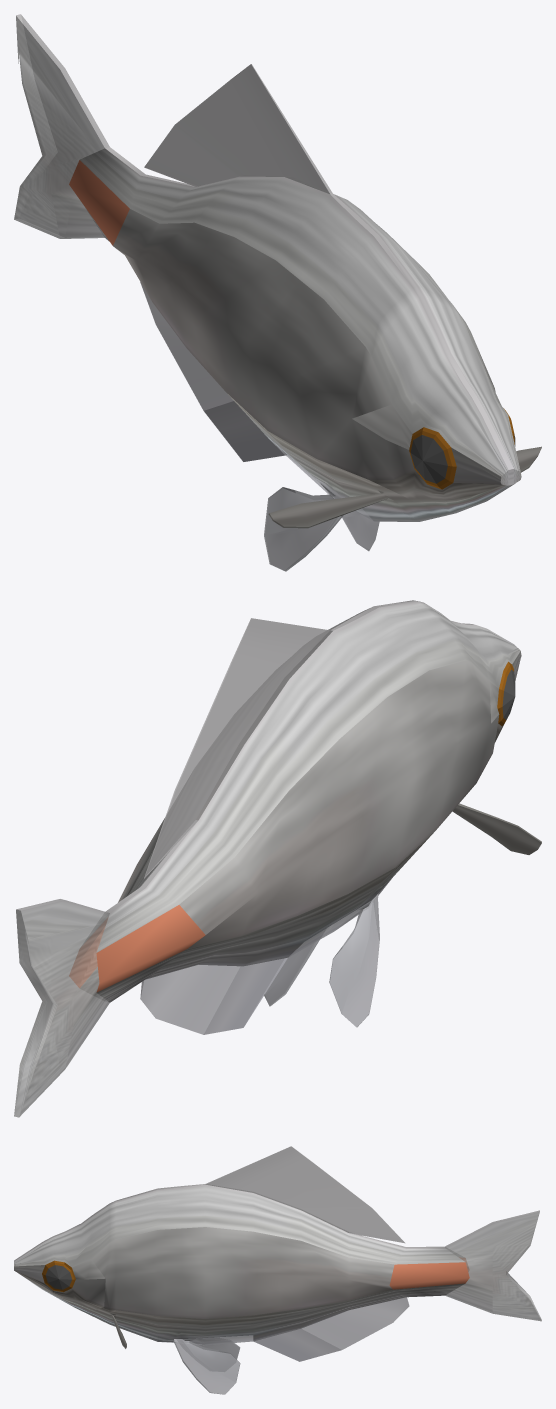
File: nihonbaratanago(kurumeusu)_enemy.fbx
The picture shows the model from 3 angles, top to bottom: view 1: azimuth 30°, elevation 25°; view 2: azimuth 150°, elevation 25°; view 3: azimuth 270°, elevation 25°; orthographic projection. The views are drawn at different scales.
Visible parts, largest first — view 1: pCube1; view 2: pCube1; view 3: pCube1.
Part boxes in pixels (x1,y1,x2,y2): pCube1: [14, 14, 541, 571]; pCube1: [14, 600, 541, 1117]; pCube1: [14, 1146, 541, 1394].
Bounding box in the file's own units: 2.29 × 3.55 × 7.17.
